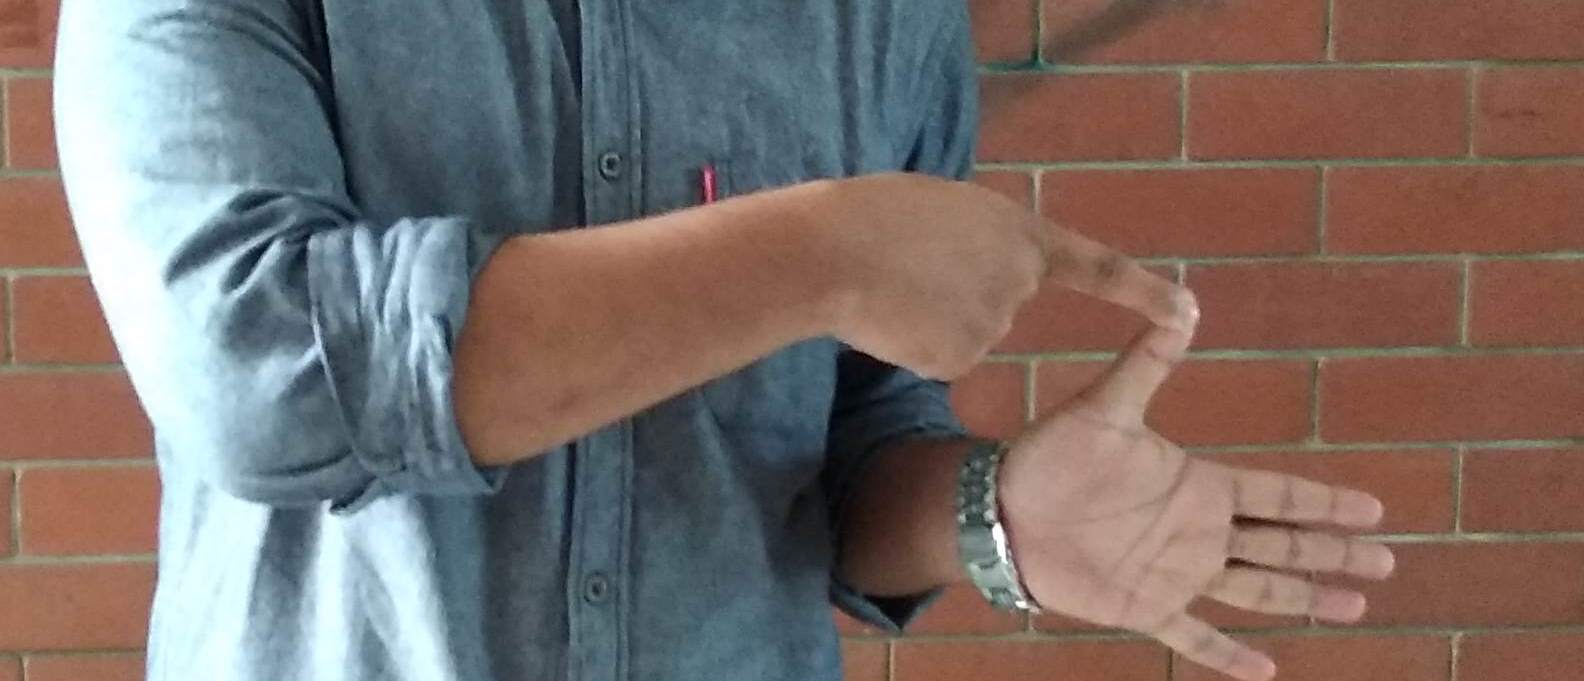a: (844, 174, 1371, 681)
